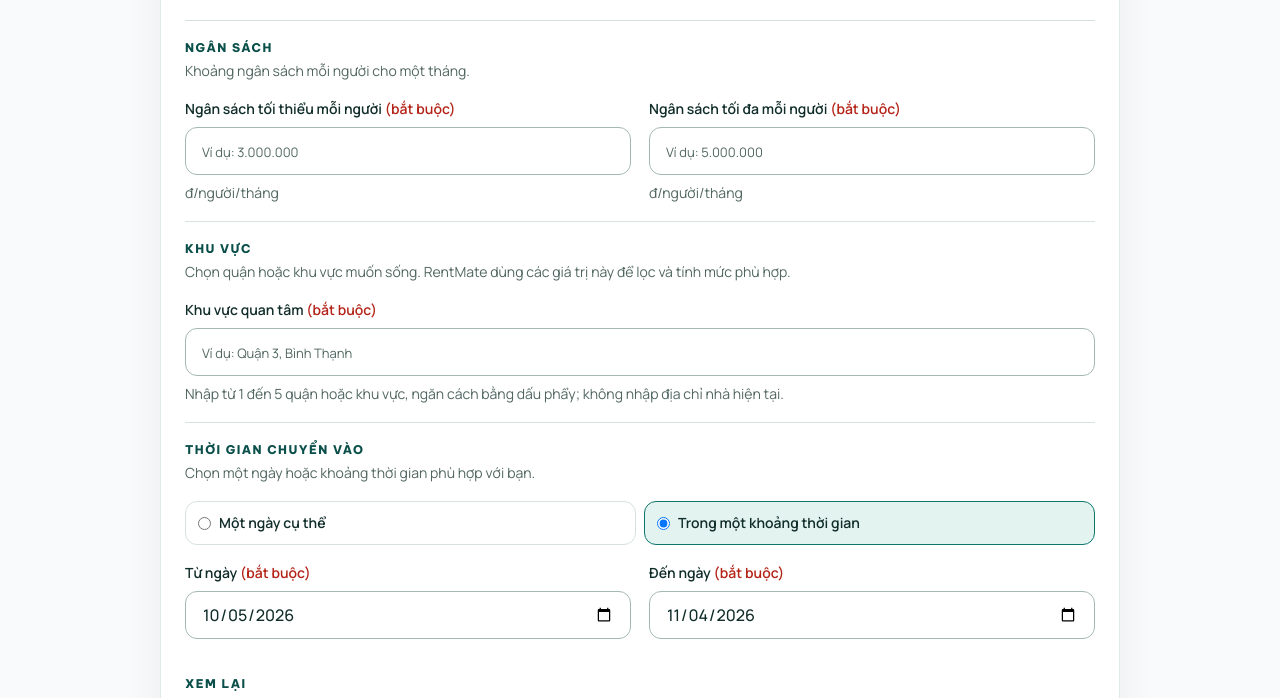
Test: RoommateRequestPage › creates an unlinked Flow B request with area, budget, and move-in data
(page scrolled)
Type "Quận 3, Bình Thạnh" into the field labelled "Khu vực quan tâm (bắt buộc)" at (640, 352), box top-left (185, 328), bottom-right (1095, 376)
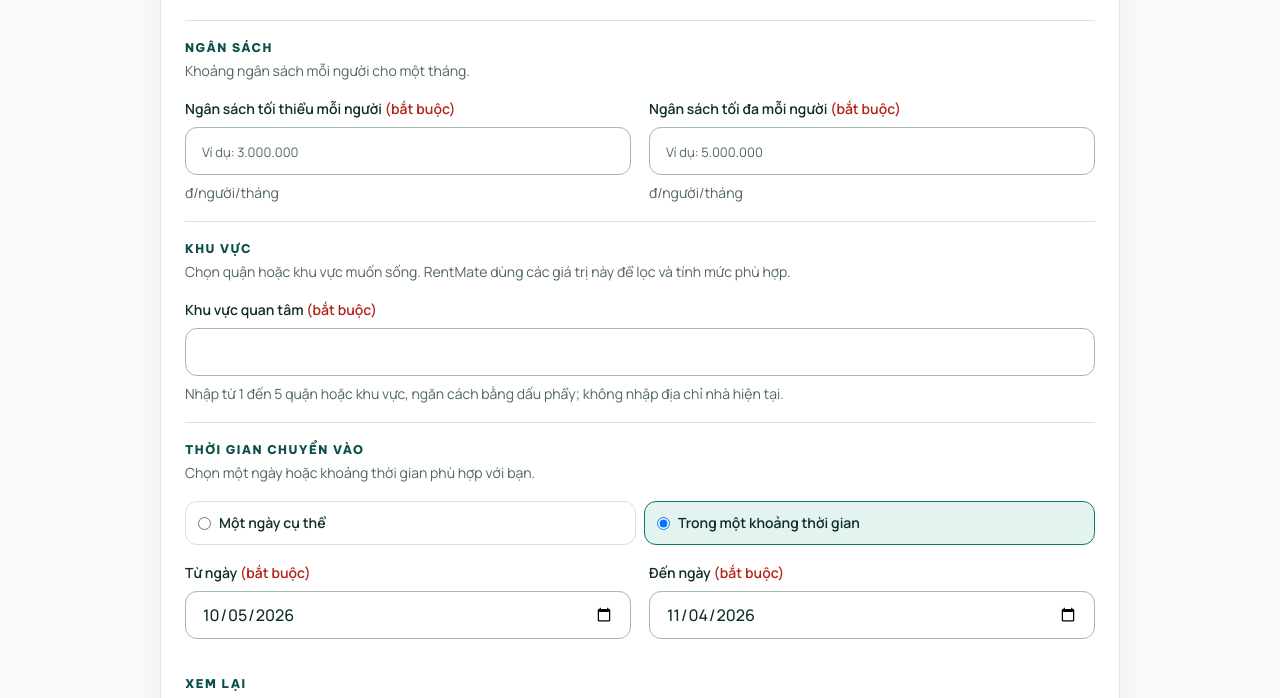
Type "3000000" into the field labelled "Ngân sách tối thiểu mỗi người (bắt buộc)" at (408, 151), box top-left (185, 127), bottom-right (631, 175)
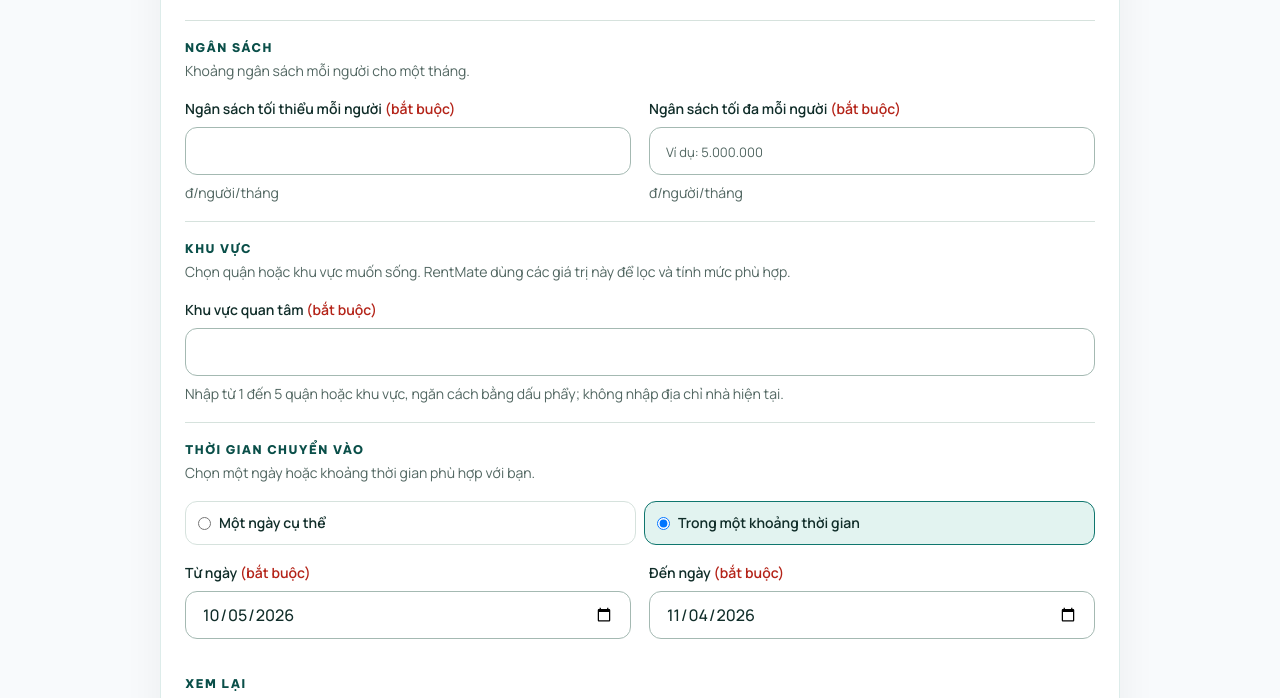
Result: the field labelled "Ngân sách tối thiểu mỗi người (bắt buộc)" holds "3.000.000" at top-left (185, 127), bottom-right (631, 175)
Type "5000000" into the field labelled "Ngân sách tối đa mỗi người (bắt buộc)" at (872, 151), box top-left (649, 127), bottom-right (1095, 175)
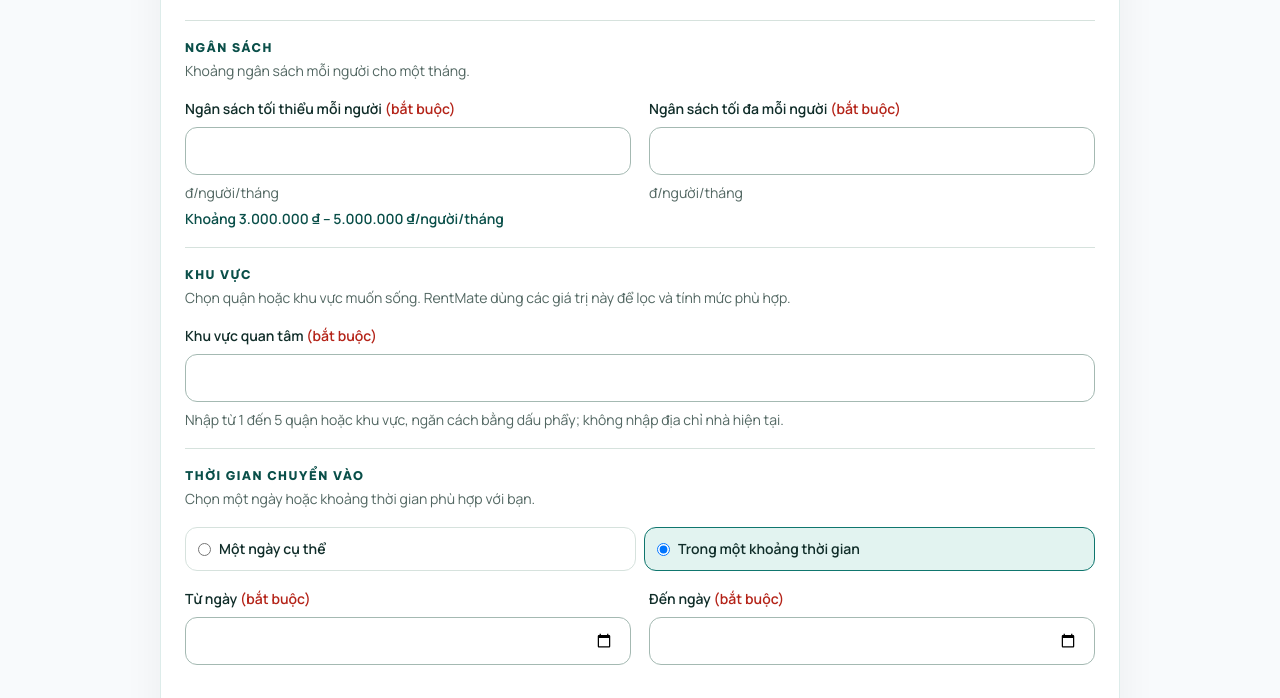
Click the radio button labelled "Một ngày cụ thể" at (204, 549), box top-left (198, 543), bottom-right (211, 556)
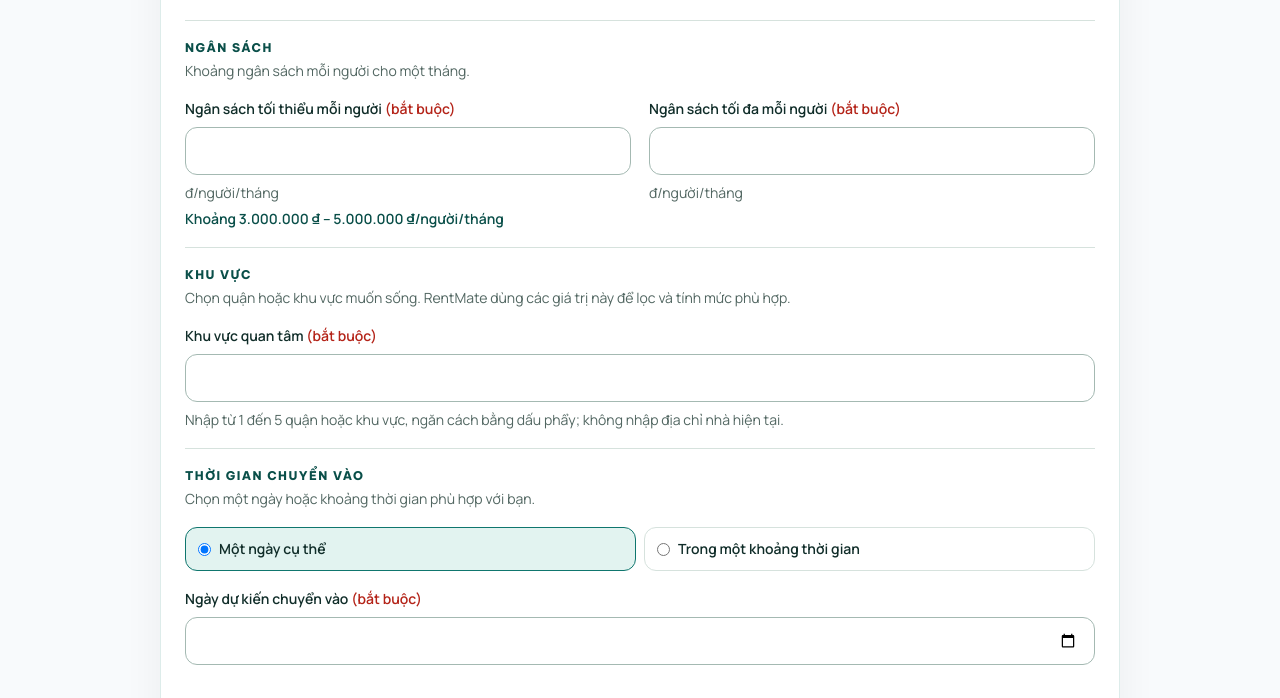
Type "2026-10-10" into the date field labelled "Ngày dự kiến chuyển vào (bắt buộc)" at (640, 641), box top-left (185, 617), bottom-right (1095, 665)
(page scrolled)
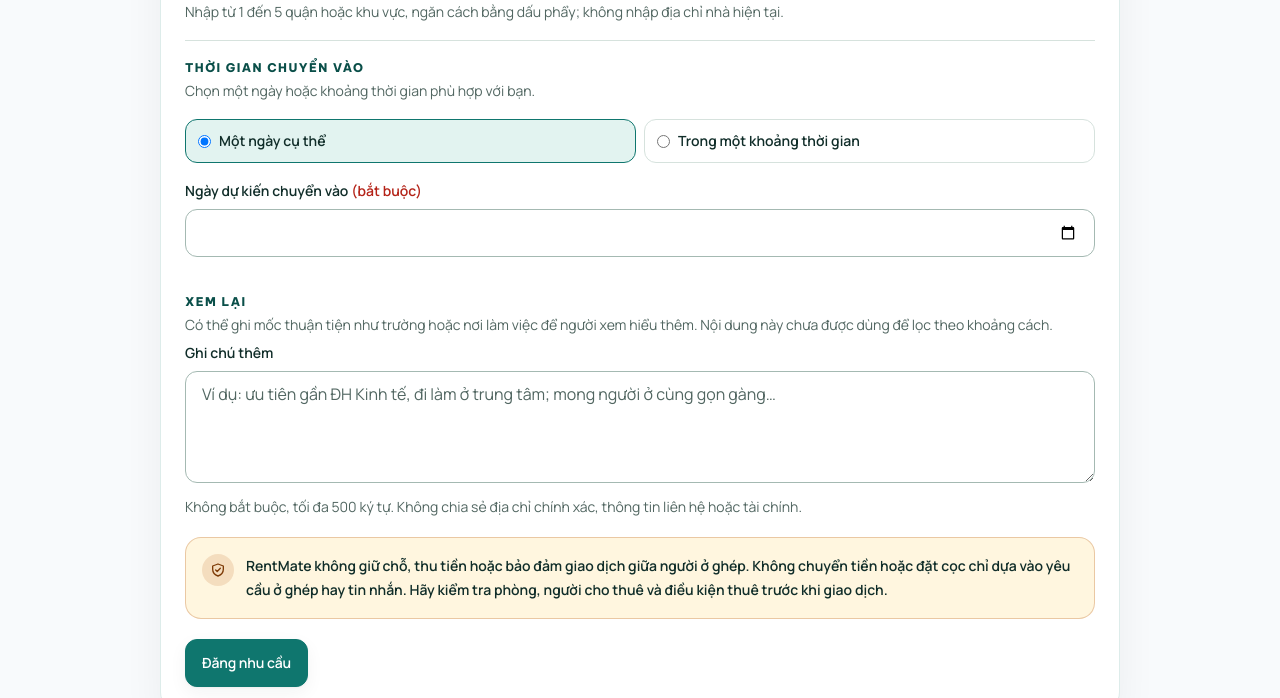
Click the button "Đăng nhu cầu" at (246, 663), box top-left (185, 639), bottom-right (308, 687)
(page scrolled)
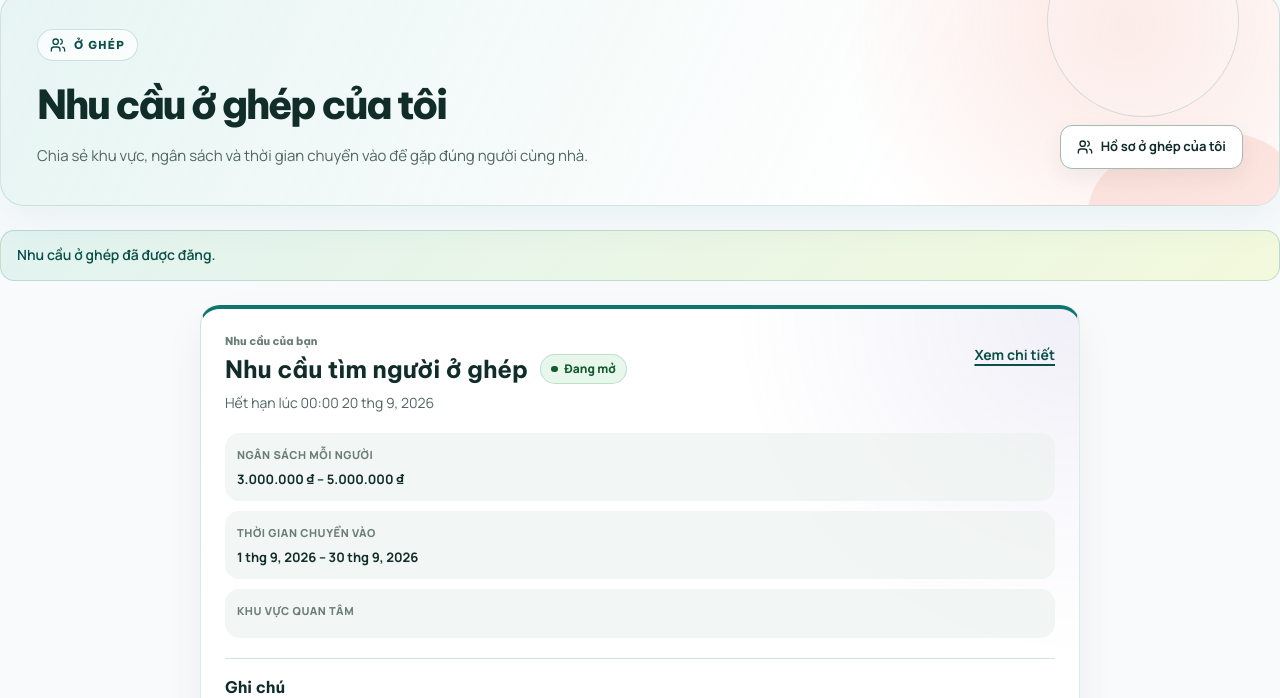
Result: the text "Nhu cầu ở ghép đã được đăng." is shown at top-left (17, 245), bottom-right (216, 264)
